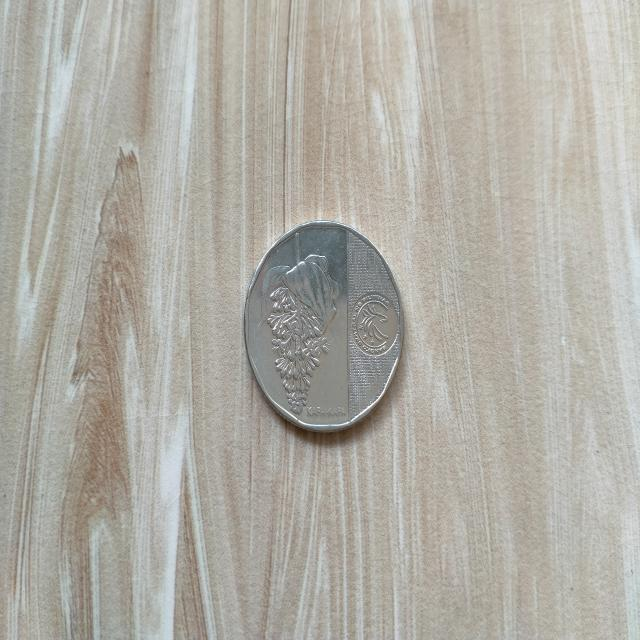10_New_Back: (262, 228, 336, 426)
